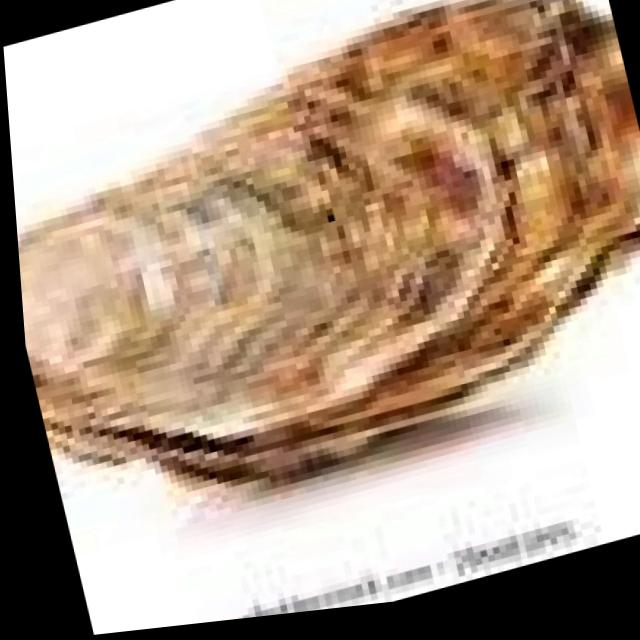Oyster-Closed: (18, 0, 636, 484)
